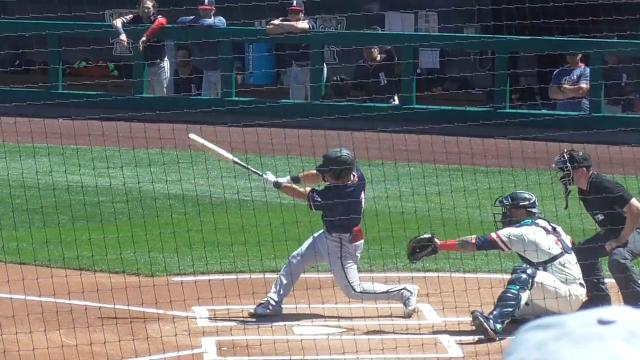baseball bat: (188, 134, 264, 178)
